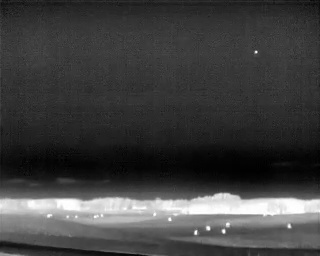BIRD: (252, 47, 260, 57)
